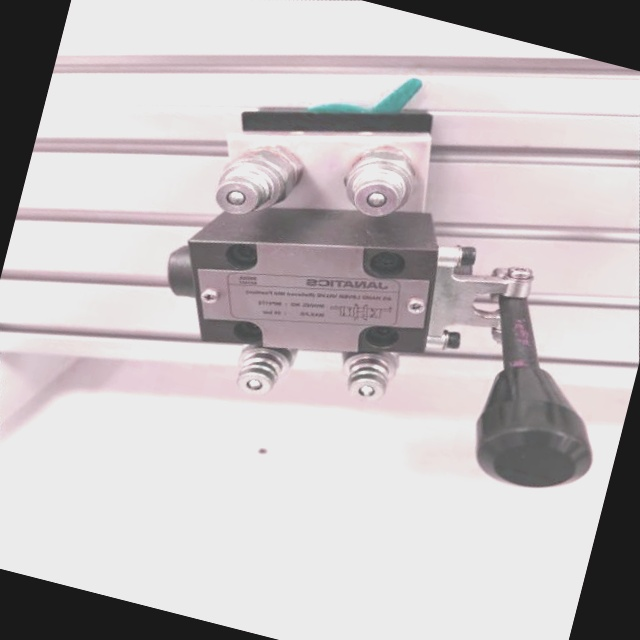4by3 hand lever valve: (59, 0, 640, 598)
